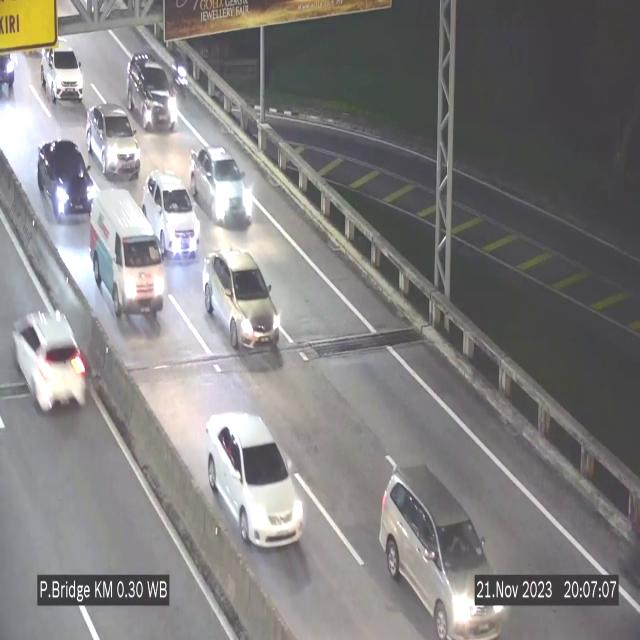Car: (379, 464, 505, 640), (206, 413, 304, 545), (90, 190, 166, 326), (7, 300, 93, 420), (202, 247, 280, 355), (36, 132, 102, 220), (191, 146, 253, 227), (143, 173, 200, 257), (86, 106, 140, 180), (127, 52, 177, 129), (41, 40, 83, 102), (0, 51, 20, 93)
Motorcycle: (173, 45, 190, 98)
